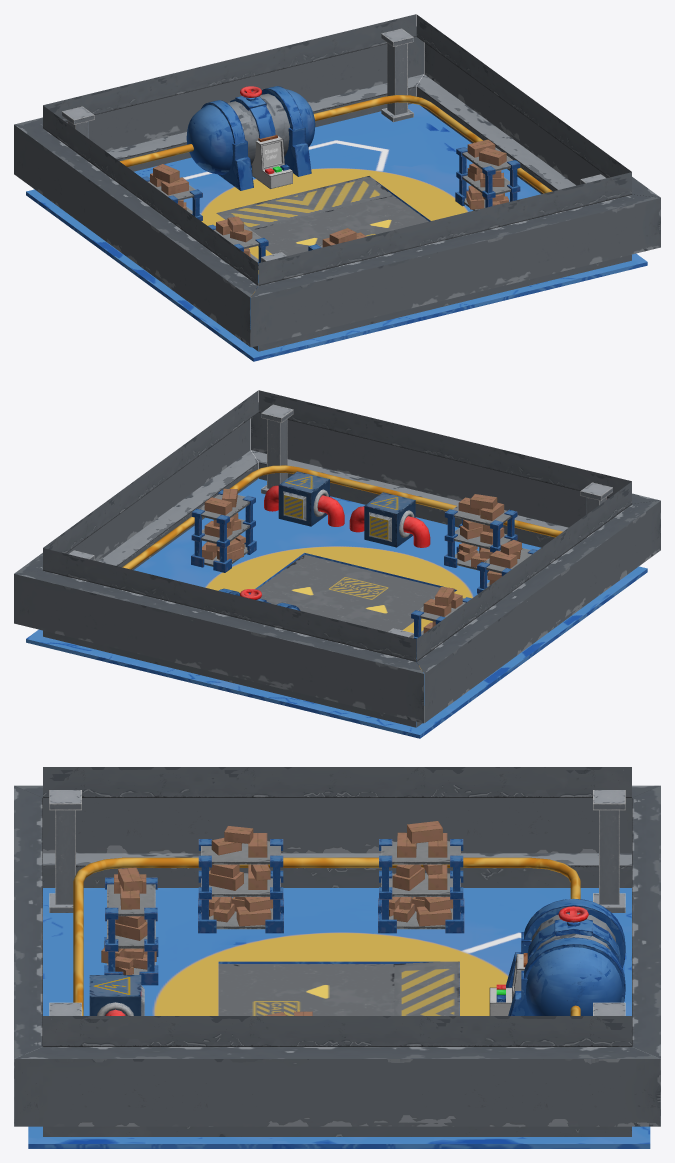
File: Factory.fbx
3 views of the same model, one above another, from view 1: azimuth 30°, elevation 25°; view 2: azimuth 150°, elevation 25°; view 3: azimuth 270°, elevation 25° (orthographic). The views are drawn at different scales.
Parts seen in each view (by area): view 1: Cube.007, Cube, Cube.085, Cube.083, Cube.084, Cube.078, Cube.004, Cube.079, Cube.002, Vert.002, Cube.001, Cube.006 (+3 smaller); view 2: Cube.083, Cube.007, Cube, Cube.085, Cube.084, Cube.078, Vert.002, Cube.002, Cube.010, Cube.058, Cube.076, Cube.060 (+6 smaller); view 3: Cube.084, Cube.085, Cube, Cube.078, Cube.004, Cube.007, Cube.083, Cube.002, Vert.002, Cube.079, Cube.027, Cube.043 (+11 smaller).
Part boxes in pixels (left/top/right/bottom): Cube.007: left=251, top=172, right=660, bottom=351; Cube: left=26, top=103, right=647, bottom=361; Cube.085: left=14, top=105, right=258, bottom=351; Cube.083: left=14, top=14, right=423, bottom=171; Cube.084: left=416, top=14, right=660, bottom=197; Cube.078: left=251, top=195, right=428, bottom=255; Cube.004: left=186, top=86, right=315, bottom=174; Cube.079: left=216, top=176, right=392, bottom=229; Cube.002: left=62, top=28, right=605, bottom=262; Vert.002: left=120, top=95, right=552, bottom=296; Cube.001: left=227, top=93, right=289, bottom=167; Cube.006: left=218, top=126, right=311, bottom=190; Cube.083: left=14, top=548, right=423, bottom=727; Cube.007: left=251, top=390, right=660, bottom=547; Cube: left=26, top=478, right=647, bottom=738; Cube.085: left=416, top=481, right=660, bottom=727; Cube.084: left=14, top=390, right=258, bottom=573; Cube.078: left=256, top=554, right=455, bottom=631; Vert.002: left=122, top=465, right=562, bottom=671; Cube.002: left=69, top=404, right=612, bottom=638; Cube.010: left=191, top=489, right=256, bottom=572; Cube.058: left=278, top=471, right=329, bottom=526; Cube.076: left=364, top=492, right=415, bottom=547; Cube.060: left=444, top=509, right=517, bottom=575; Cube.084: left=14, top=1016, right=660, bottom=1136; Cube.085: left=14, top=767, right=660, bottom=887; Cube: left=28, top=888, right=650, bottom=1148; Cube.078: left=218, top=964, right=394, bottom=1015; Cube.004: left=524, top=898, right=625, bottom=1015; Cube.007: left=14, top=786, right=42, bottom=1126; Cube.083: left=632, top=786, right=660, bottom=1126; Cube.002: left=49, top=790, right=625, bottom=1015; Vert.002: left=73, top=857, right=580, bottom=1015; Cube.079: left=394, top=961, right=459, bottom=1015; Cube.027: left=378, top=839, right=464, bottom=933; Cube.043: left=198, top=839, right=283, bottom=933.
Bounding box in the file's own units: 2517 × 555 × 2517.
